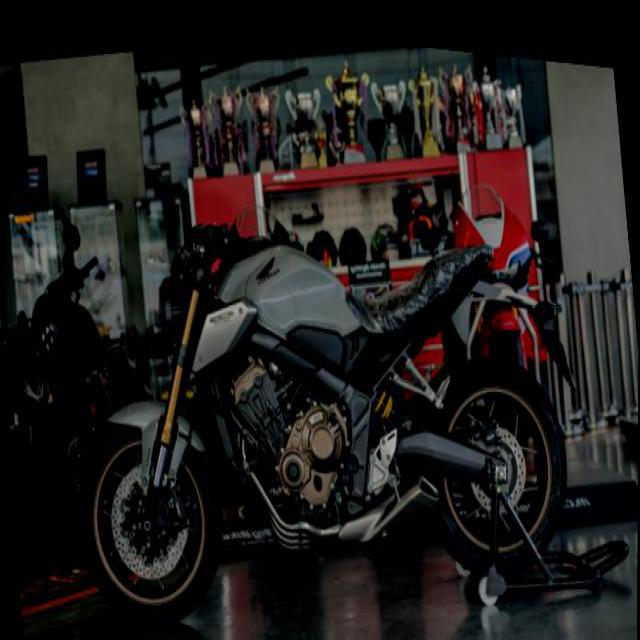CB650R: (53, 142, 581, 638)
